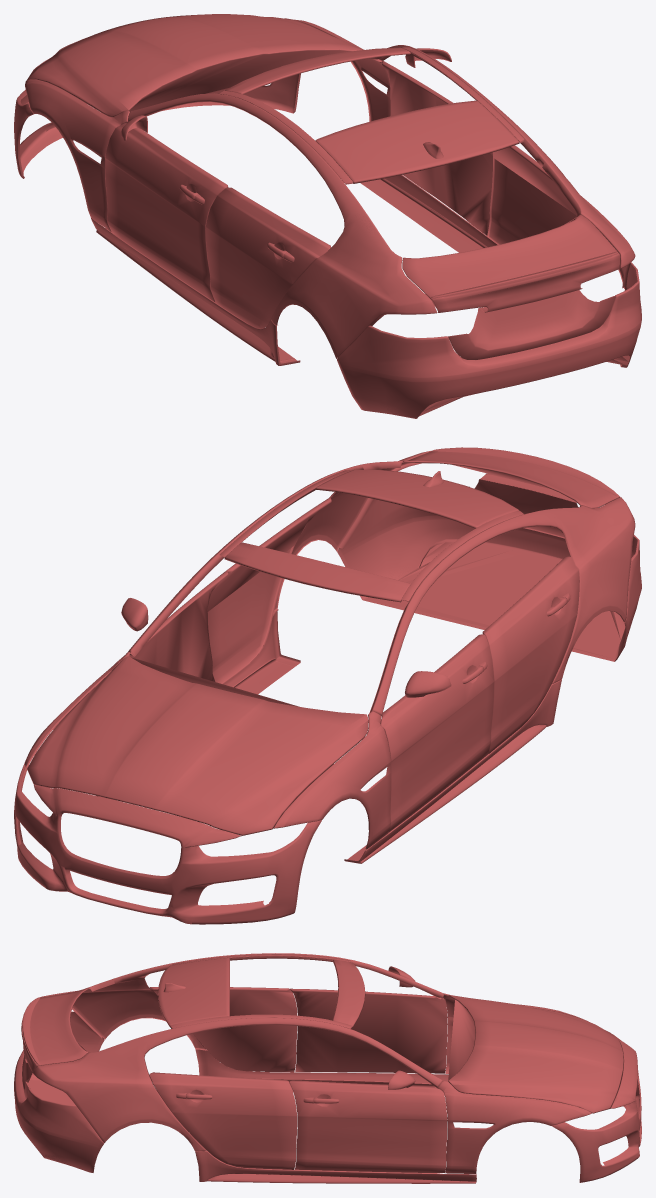
Rendered from exterior.fbx.
3 renders of one model, top to bottom at view 1: azimuth 30°, elevation 25°; view 2: azimuth 150°, elevation 25°; view 3: azimuth 270°, elevation 25°, orthographic. The views are drawn at different scales.
Parts seen in each view (by area): view 1: XE_lowPoly_mdl:XE_bodyPaint; view 2: XE_lowPoly_mdl:XE_bodyPaint; view 3: XE_lowPoly_mdl:XE_bodyPaint.
Part boxes in pixels (bbox=[...]): XE_lowPoly_mdl:XE_bodyPaint: bbox=[14, 14, 641, 418]; XE_lowPoly_mdl:XE_bodyPaint: bbox=[14, 447, 641, 924]; XE_lowPoly_mdl:XE_bodyPaint: bbox=[14, 953, 641, 1183].
Size of the model in its own units: 207 by 126 by 467.
